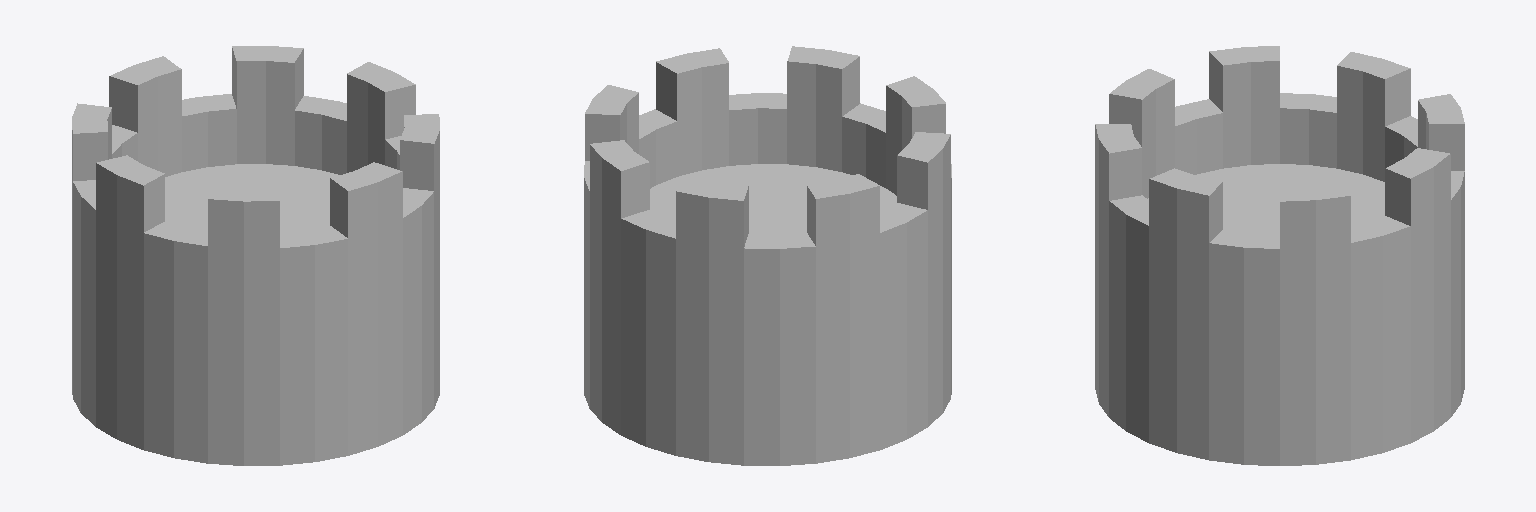
The model's file is tower.obj.
3 views of the same model, side by side, from view 1: azimuth 30°, elevation 25°; view 2: azimuth 150°, elevation 25°; view 3: azimuth 270°, elevation 25° (orthographic).
Parts seen in each view (by area): view 1: default; view 2: default; view 3: default.
Part boxes in pixels (x1,y1,x2,y2): default: (72,46,439,465); default: (584,46,951,465); default: (1095,46,1464,465).
Bounding box in the file's own units: 4 × 3.16 × 4.